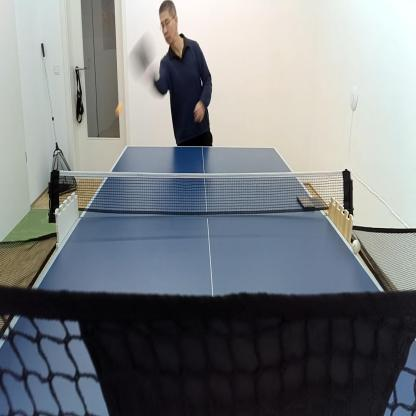Ball: (353, 238, 360, 254), (115, 104, 121, 114)
